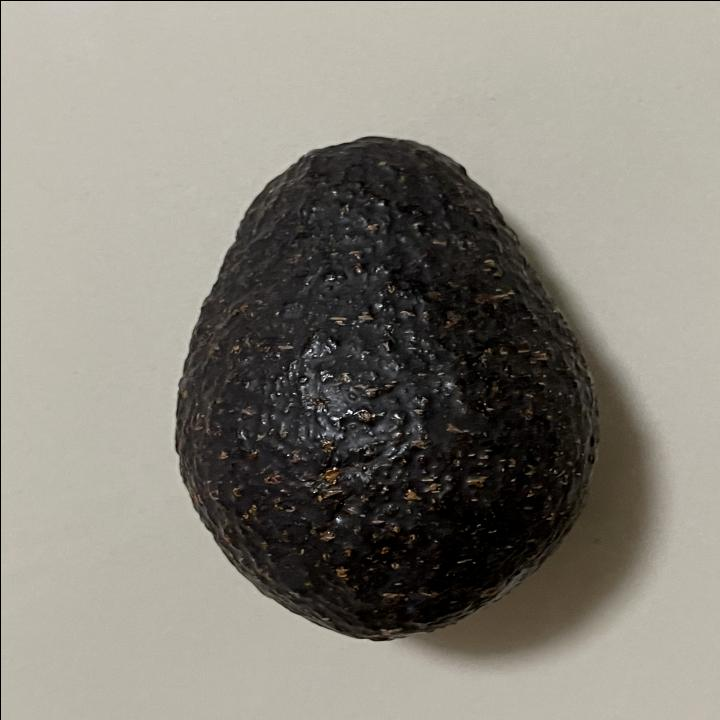Level2: (163, 125, 608, 648)
